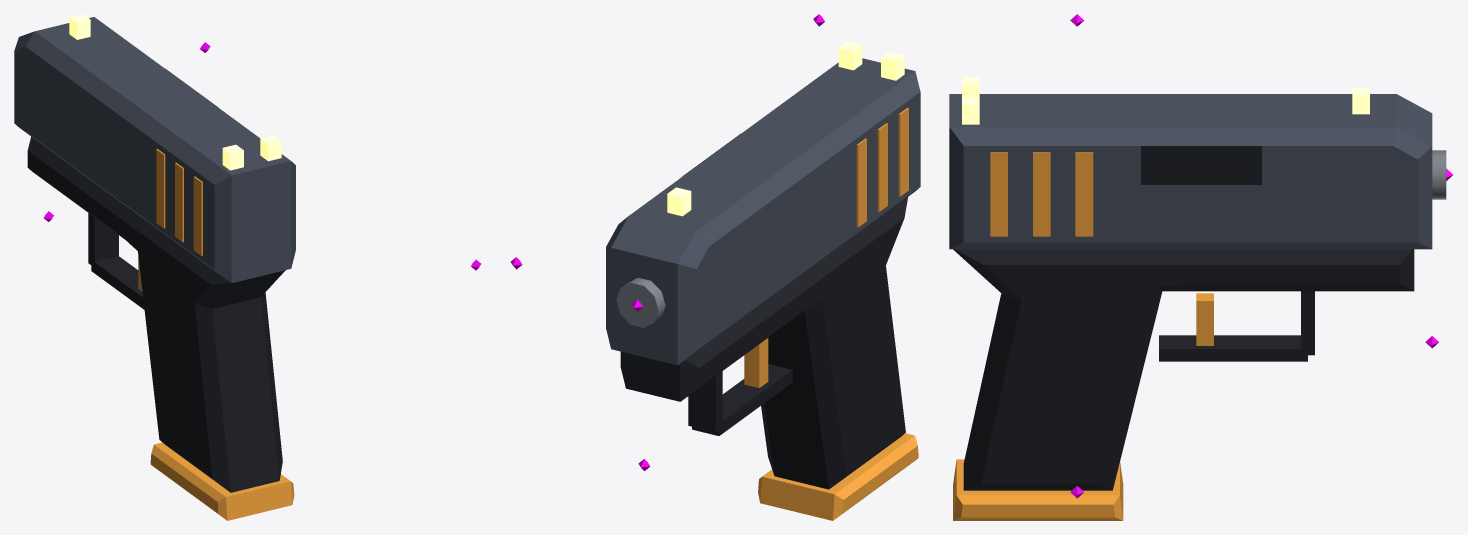
The model's file is Pistol.glb.
The picture shows the model from 3 angles, left to right: view 1: azimuth 30°, elevation 25°; view 2: azimuth 150°, elevation 25°; view 3: azimuth 270°, elevation 25°; orthographic projection. The views are drawn at different scales.
Visible parts, largest first — view 1: Steel, Dark, Accent, Glow; view 2: Steel, Dark, Accent, Glow, Bare; view 3: Steel, Dark, Accent, Glow, Bare.
Boxes of the visible parts, box(x1,y1,x2,y2) form: Steel: box(14, 17, 295, 282); Dark: box(27, 69, 285, 492); Accent: box(138, 149, 294, 520); Glow: box(69, 14, 281, 170); Steel: box(606, 58, 920, 365); Dark: box(620, 133, 907, 489); Accent: box(744, 108, 918, 520); Glow: box(667, 41, 904, 216); Bare: box(616, 277, 665, 327); Steel: box(949, 94, 1432, 249); Dark: box(953, 146, 1414, 490); Accent: box(953, 152, 1213, 520); Glow: box(962, 77, 1369, 124); Bare: box(1432, 150, 1446, 199).
Bounding box in the file's own units: 1.17 × 1.52 × 1.42.
